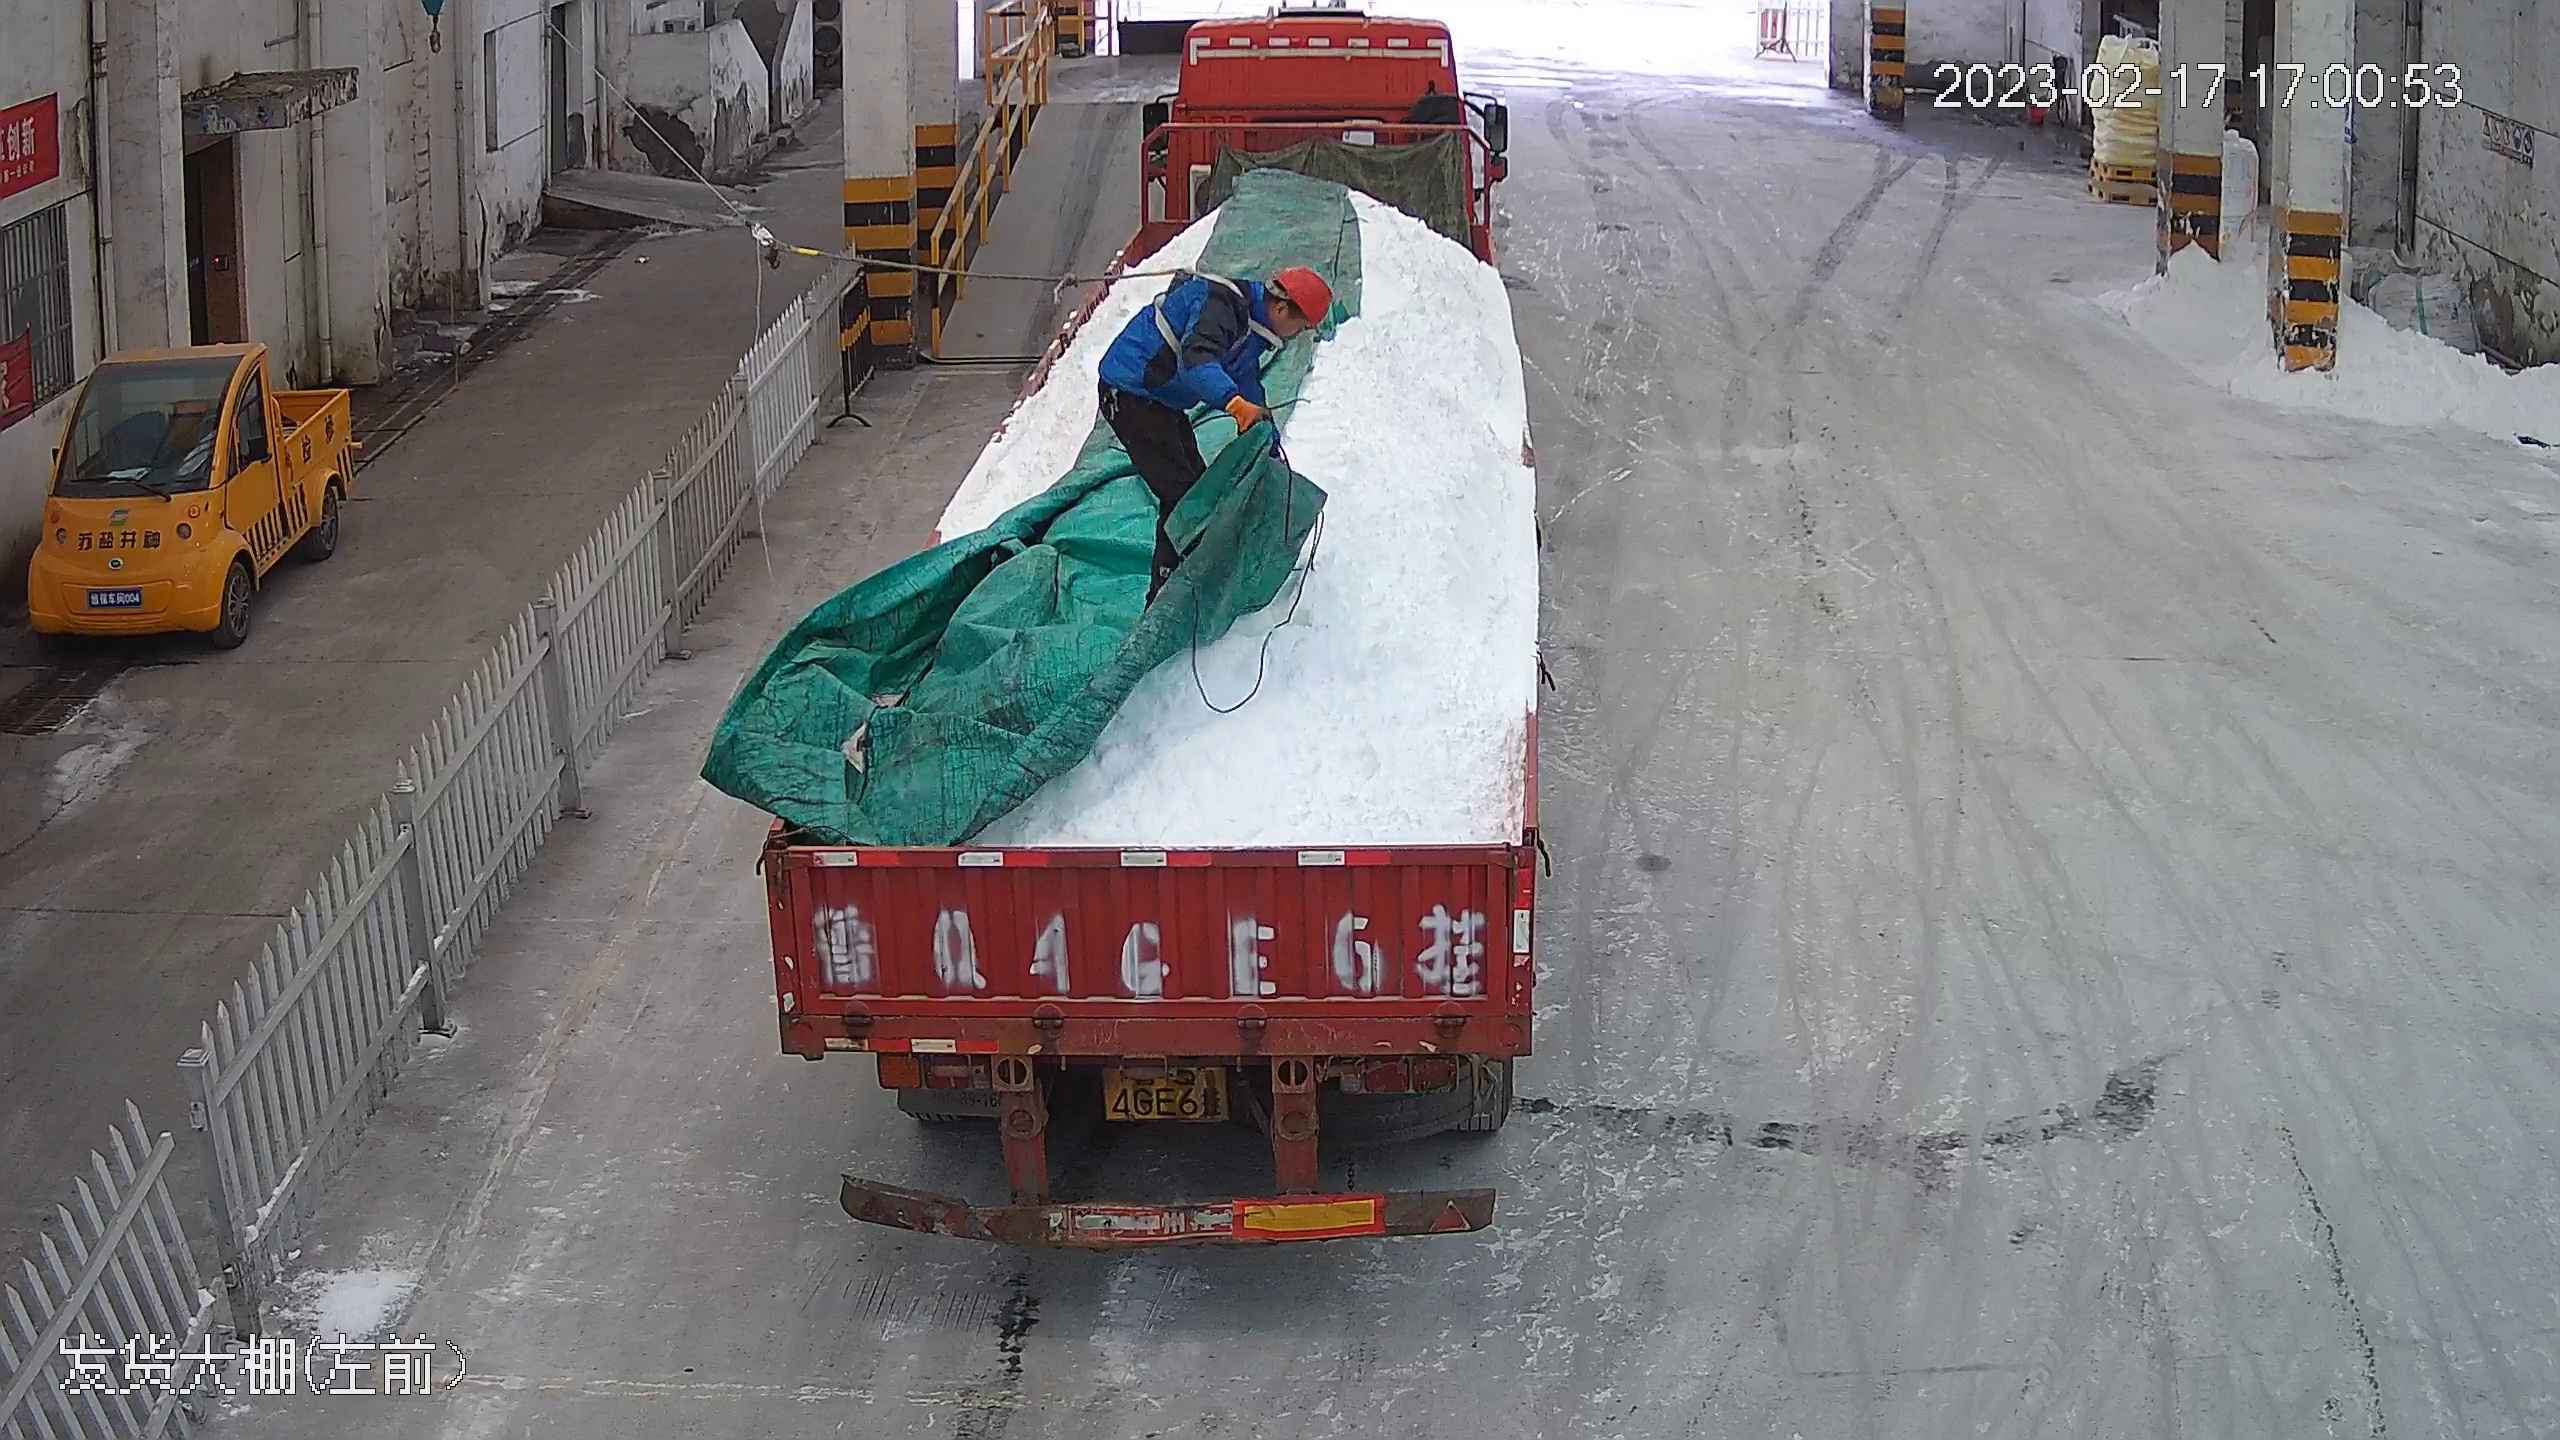belt: (1142, 267, 1244, 358)
head: (1181, 253, 1325, 419)
helmet: (1283, 260, 1342, 341)
people: (1096, 254, 1349, 614)
truck: (755, 1, 1594, 1271)
